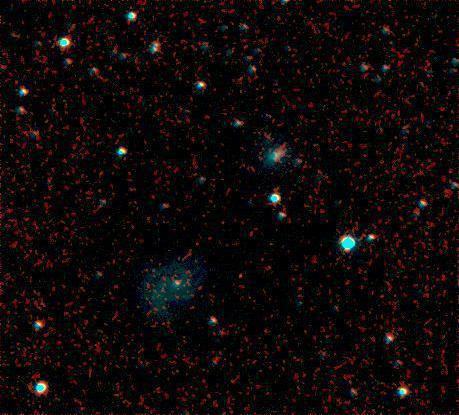star: (223, 255, 253, 285)
